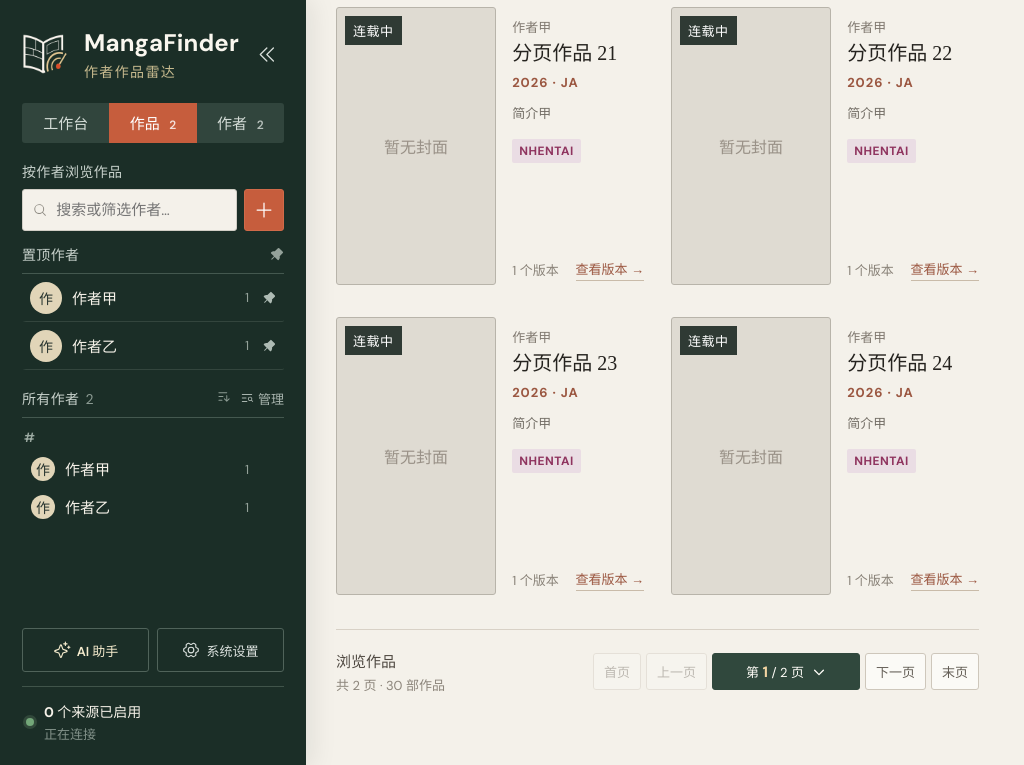
Test: catalog views › paginates large catalogs with a fixed size and supports direct page jumps
The width and height of the screenshot is (1024, 765).
(page scrolled)
Click the button "第 1 / 2 页" at [786, 672], box [712,653,860,690]
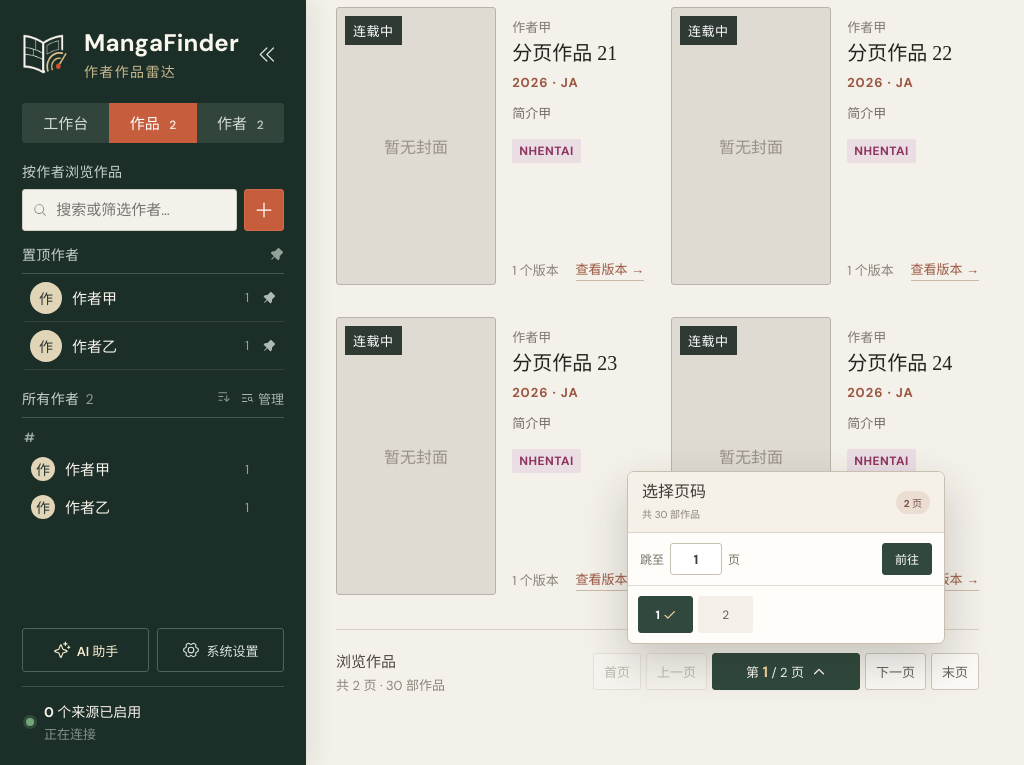
Expected: the list named "可选页码" is shown, [638,596,753,633]
Replace the text in the field named "跳转页码" with "2" at [696, 559], box [670,543,722,575]
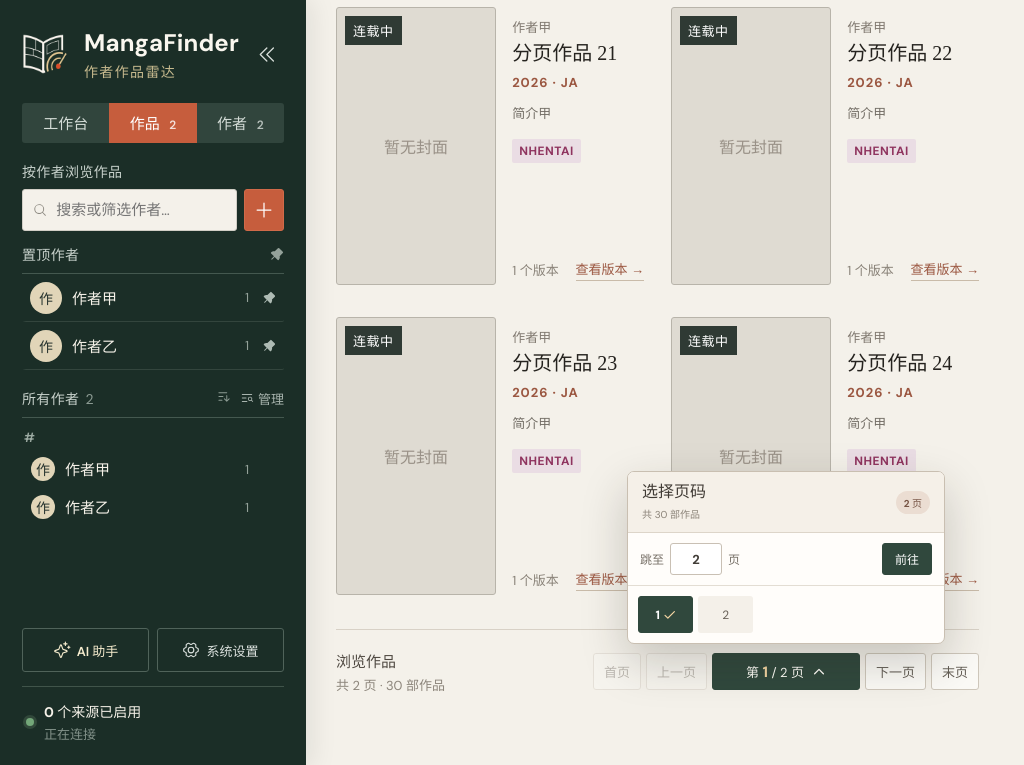
Click the button "前往" at [907, 559], box [882,543,932,575]
(page scrolled)
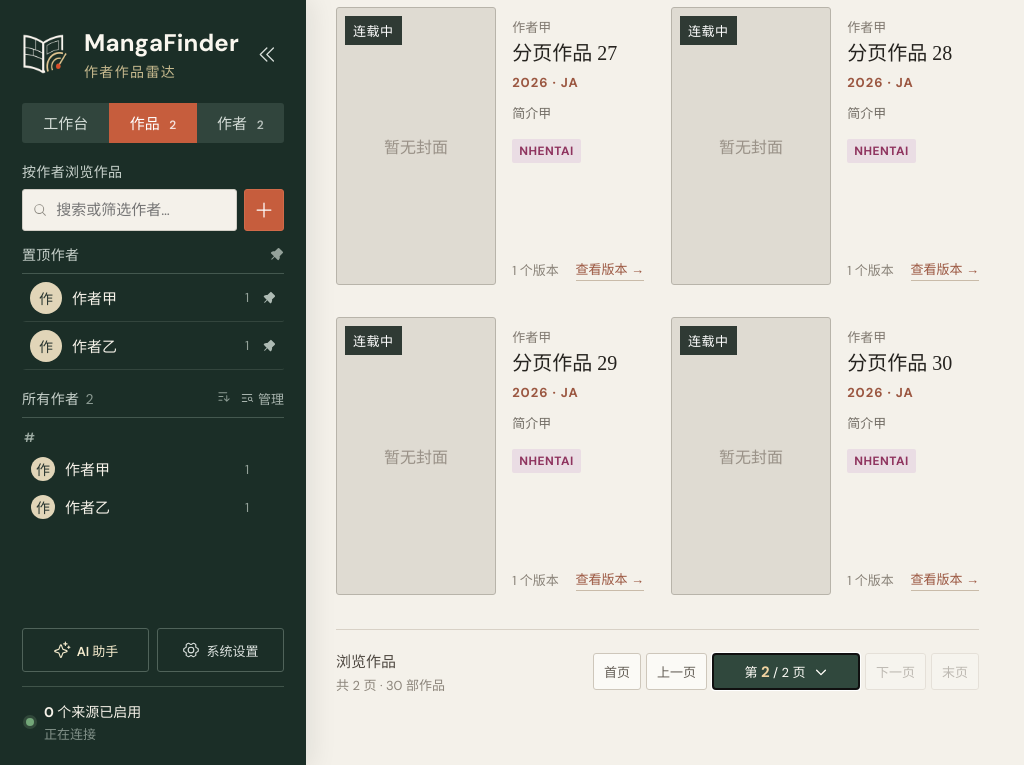
Click the button with aria-label "第一页" at [617, 672], box [593,653,641,690]
(page scrolled)
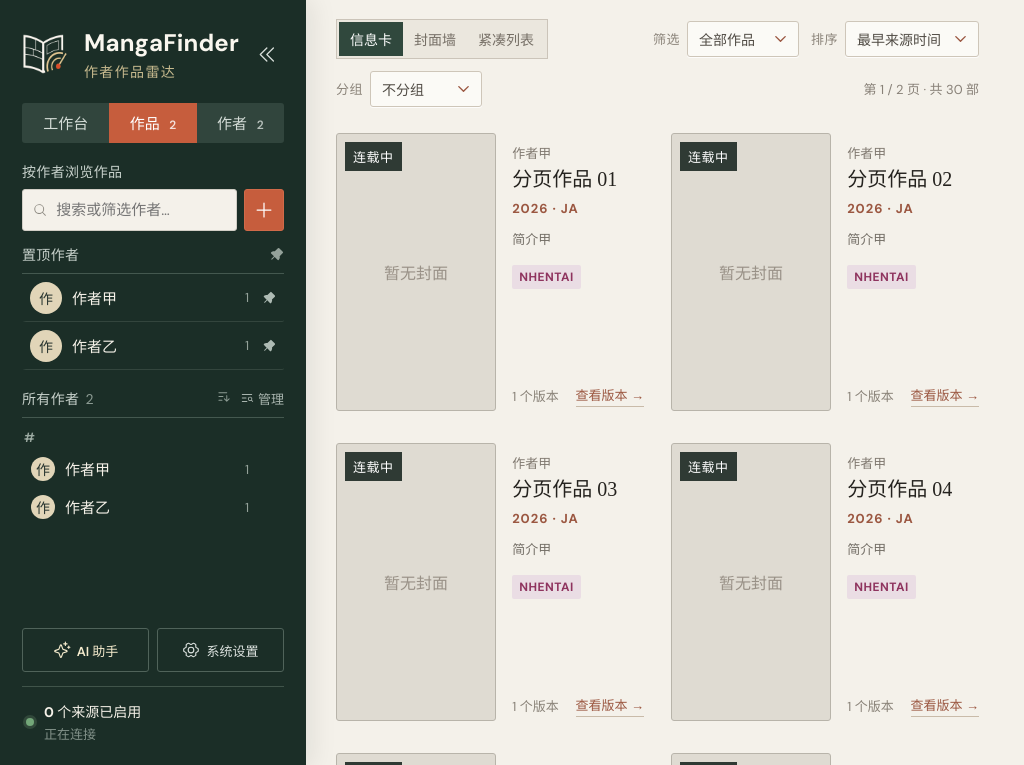
Expected: the heading "分页作品 01" is shown, [512,168,617,190]
